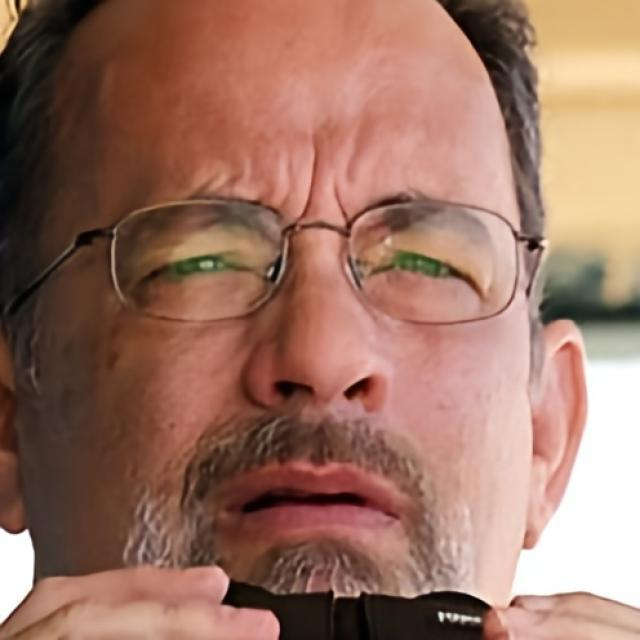disgust: (37, 0, 533, 609)
